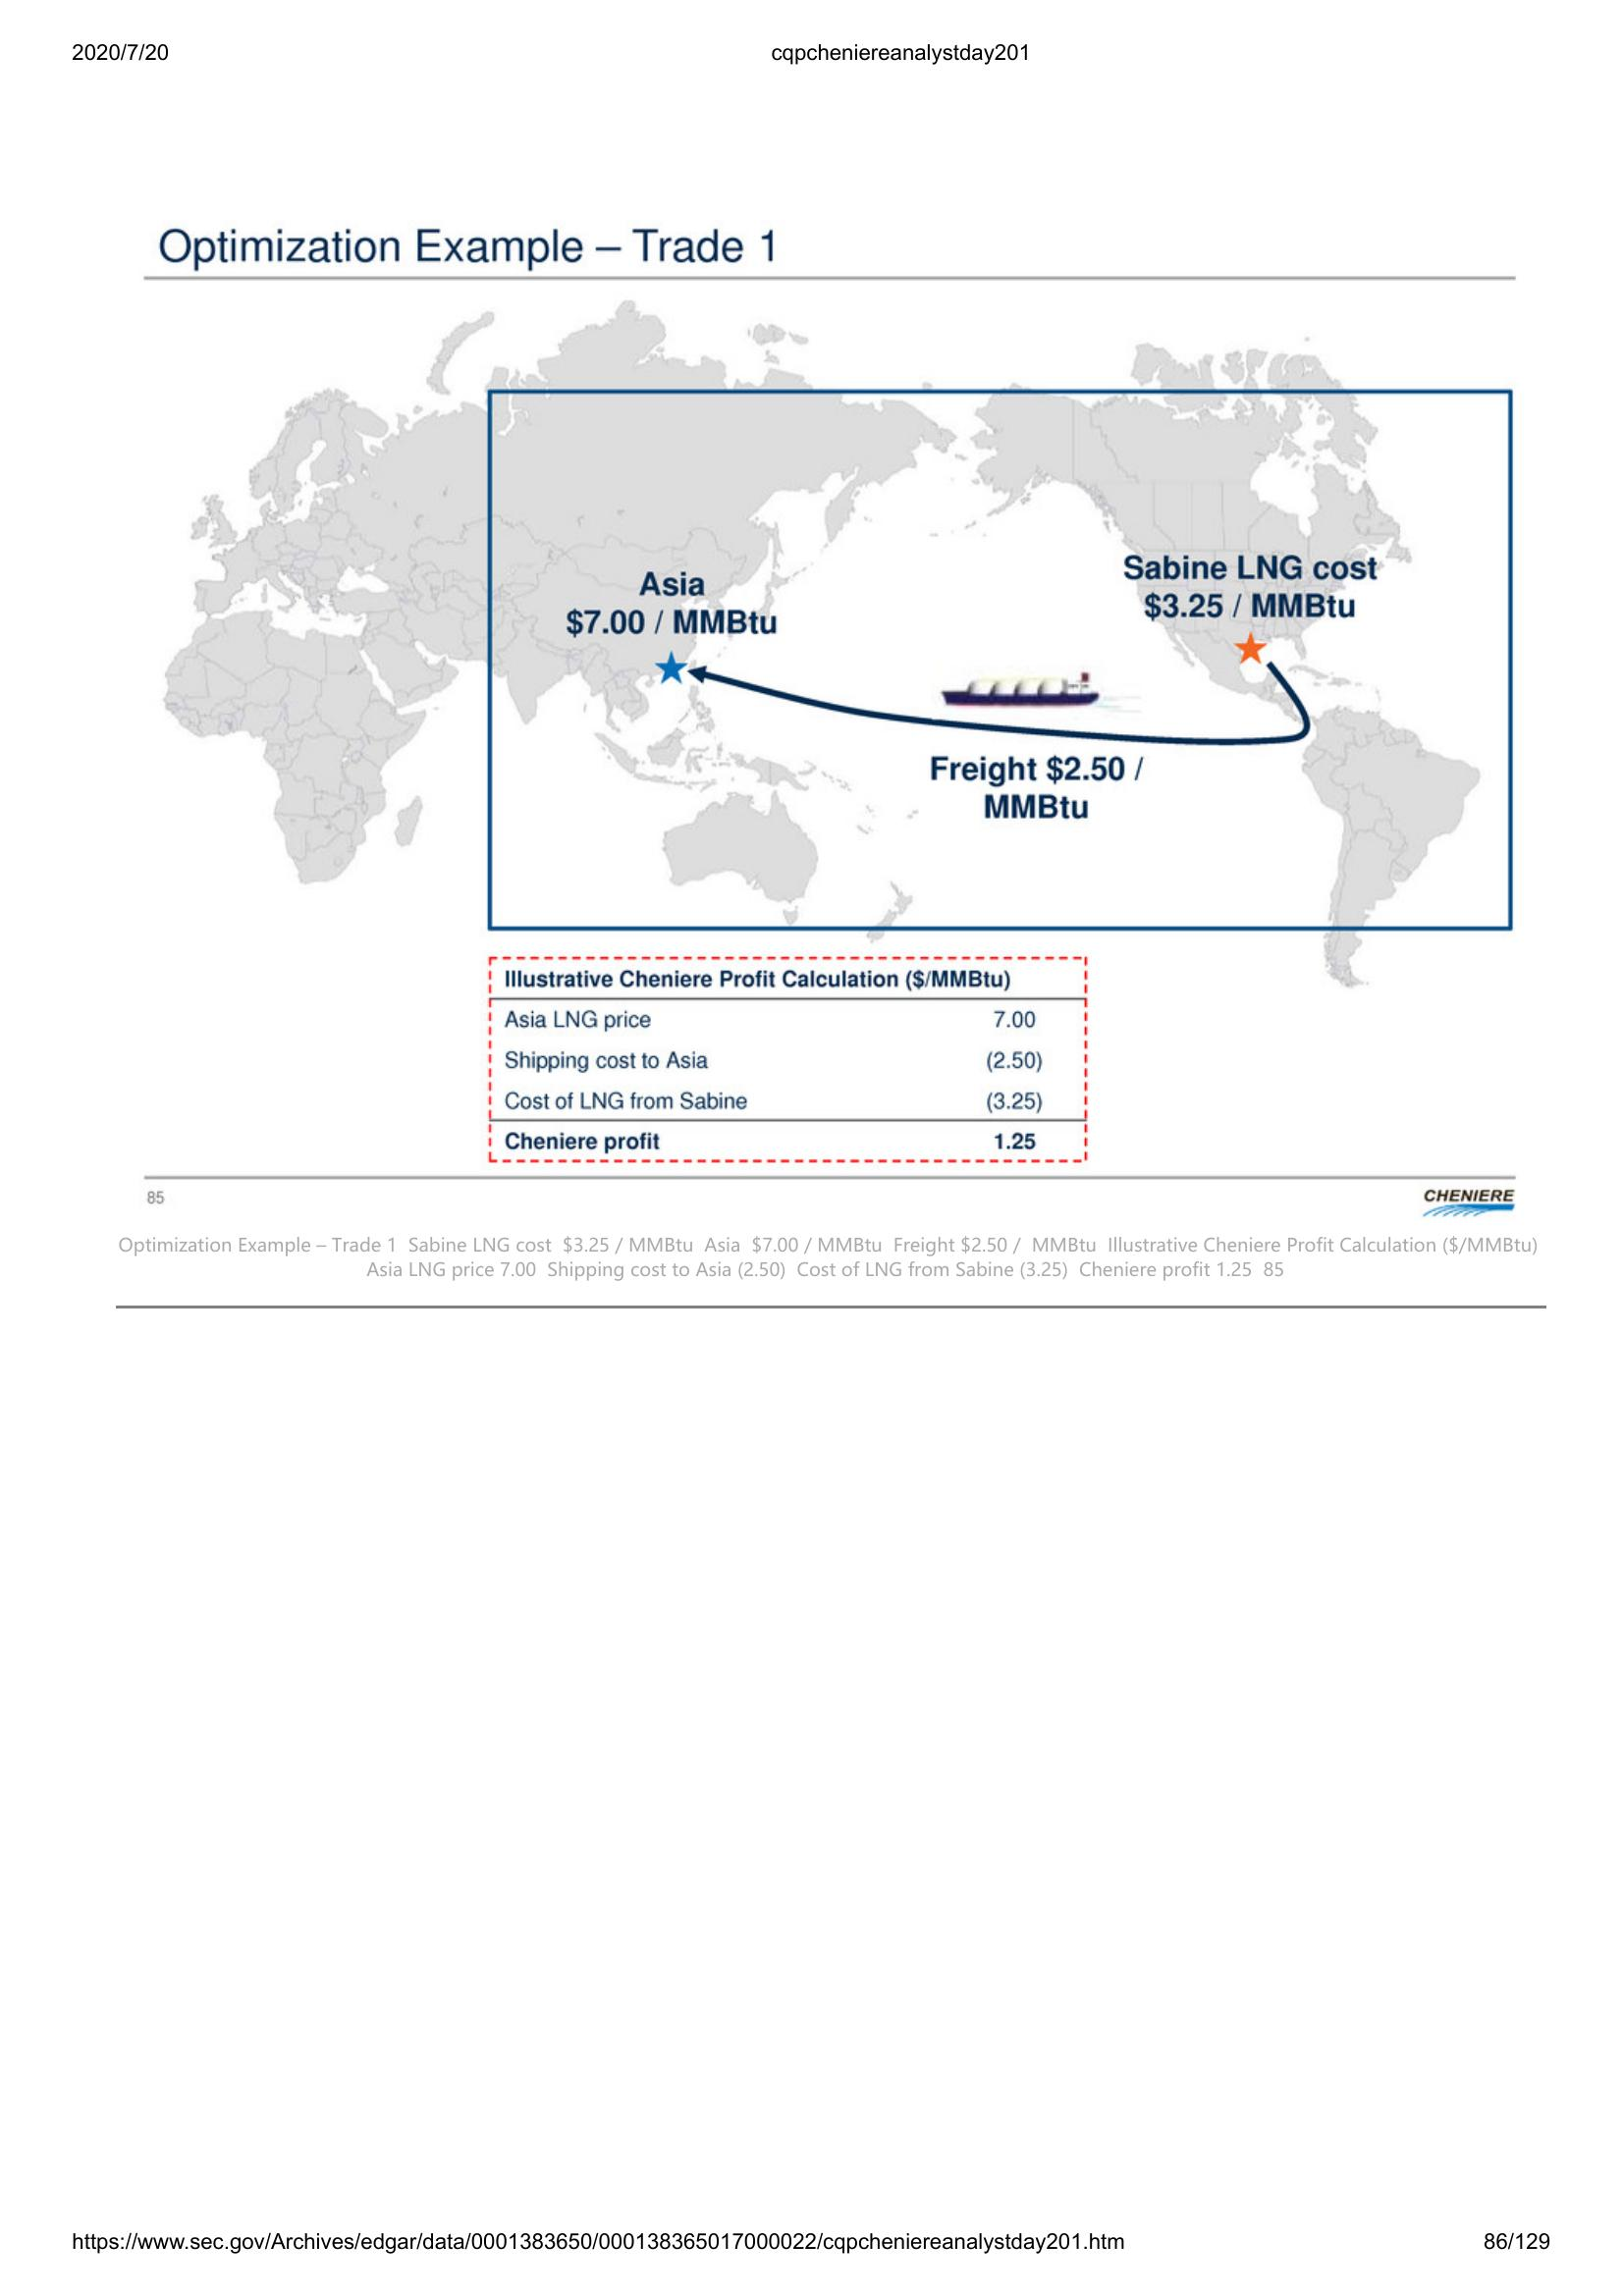table: (485, 953, 1093, 1167)
